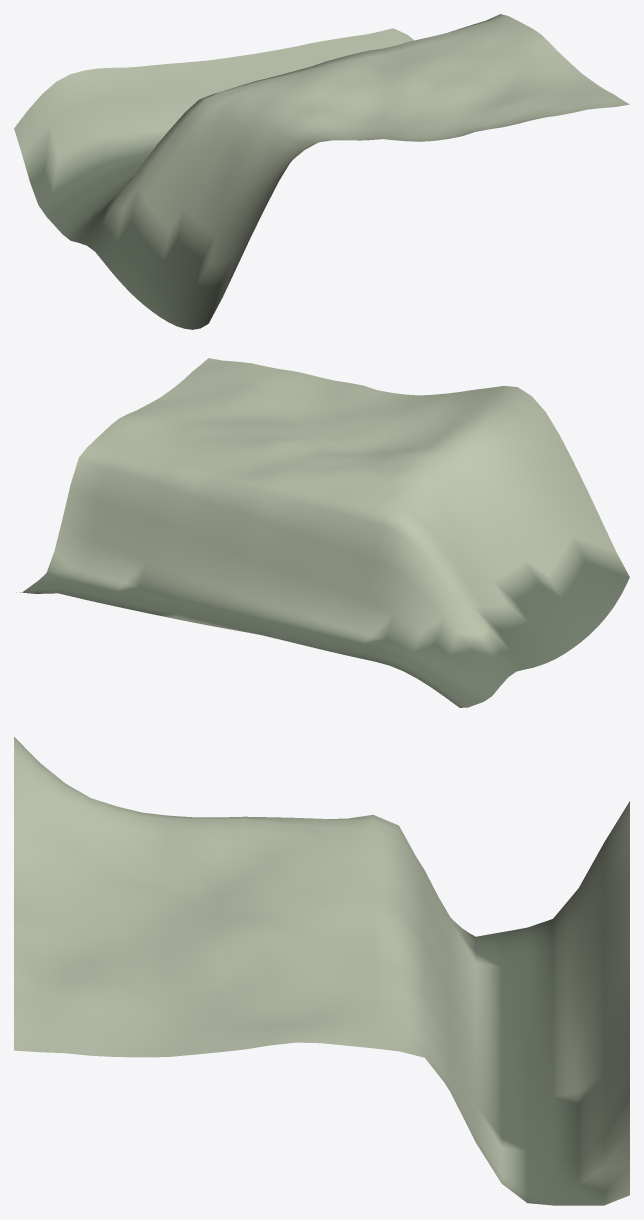
3 renders of one model, top to bottom at view 1: azimuth 30°, elevation 25°; view 2: azimuth 150°, elevation 25°; view 3: azimuth 270°, elevation 25°, orthographic. The views are drawn at different scales.
Parts seen in each view (by area): view 1: world-ground/30-144; view 2: world-ground/30-144; view 3: world-ground/30-144.
Boxes of the visible parts, x1=… form: world-ground/30-144: x1=14, y1=14, x2=629, y2=329; world-ground/30-144: x1=16, y1=358, x2=629, y2=707; world-ground/30-144: x1=14, y1=737, x2=629, y2=1205.
Size of the model in its own units: 37.5 by 16.33 by 30.
